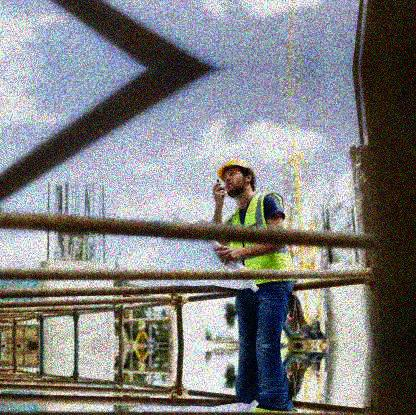helmet: (219, 159, 256, 196)
